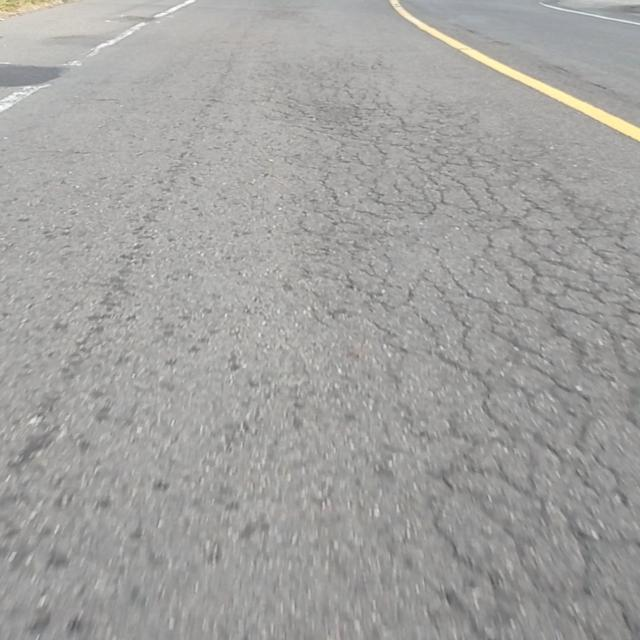Retak Buaya: (281, 78, 640, 640)
